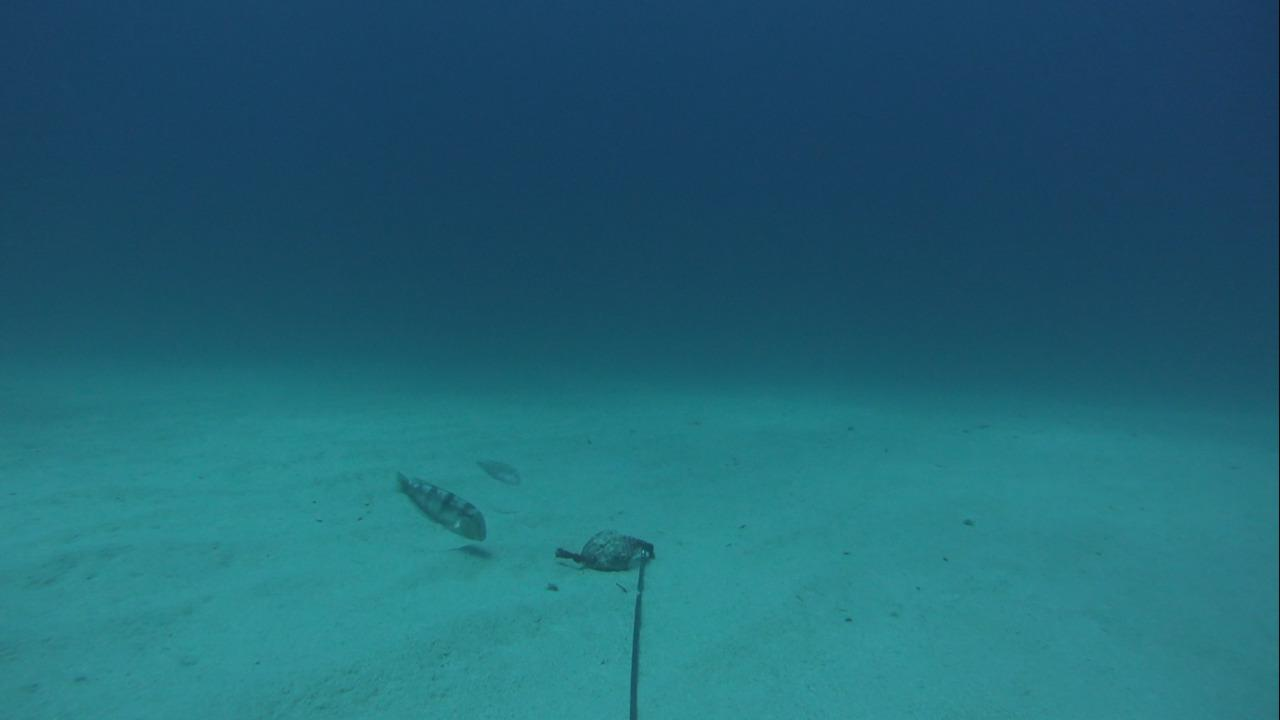raor: (384, 462, 495, 545), (477, 451, 521, 486)
